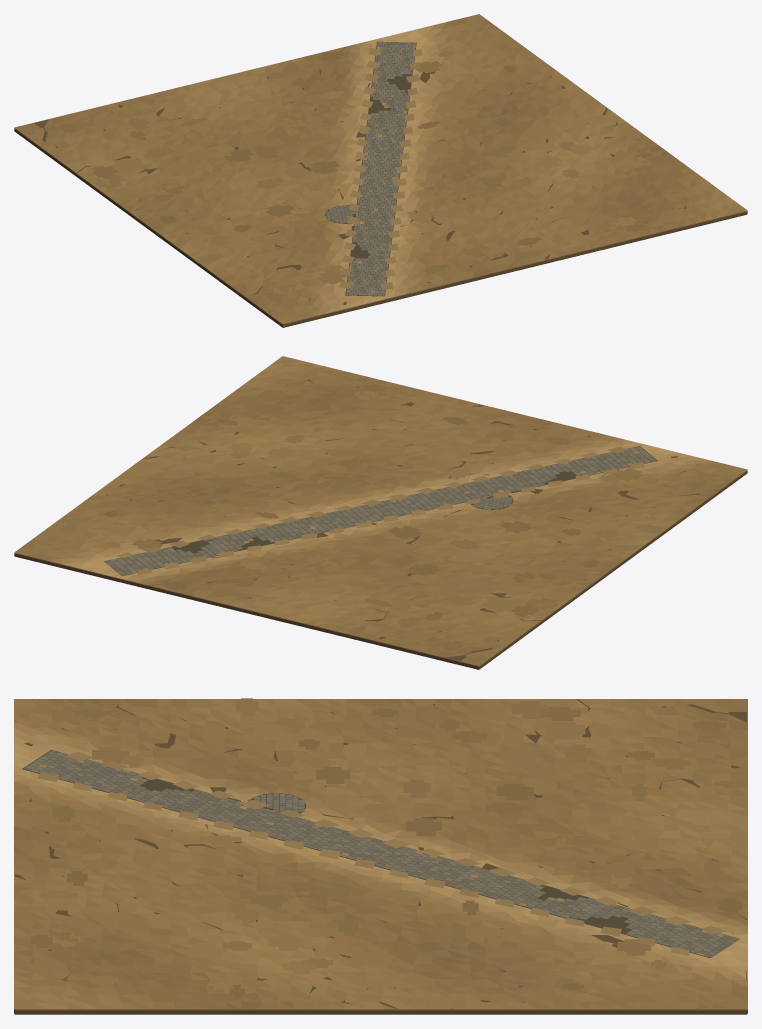
File: terrain.glb
3 views of the same model, one above another, from view 1: azimuth 30°, elevation 25°; view 2: azimuth 150°, elevation 25°; view 3: azimuth 270°, elevation 25° (orthographic). The views are drawn at different scales.
Parts seen in each view (by area): view 1: Earth, Stone; view 2: Earth, Stone; view 3: Earth, Stone.
Part boxes in pixels (left/top/right/bottom): Earth: left=14, top=14, right=747, bottom=323; Stone: left=14, top=25, right=747, bottom=327; Earth: left=14, top=356, right=747, bottom=665; Stone: left=14, top=379, right=747, bottom=669; Earth: left=14, top=698, right=747, bottom=1009; Stone: left=14, top=699, right=747, bottom=1014.
Size of the model in its own units: 84.1 by 0.768 by 84.
